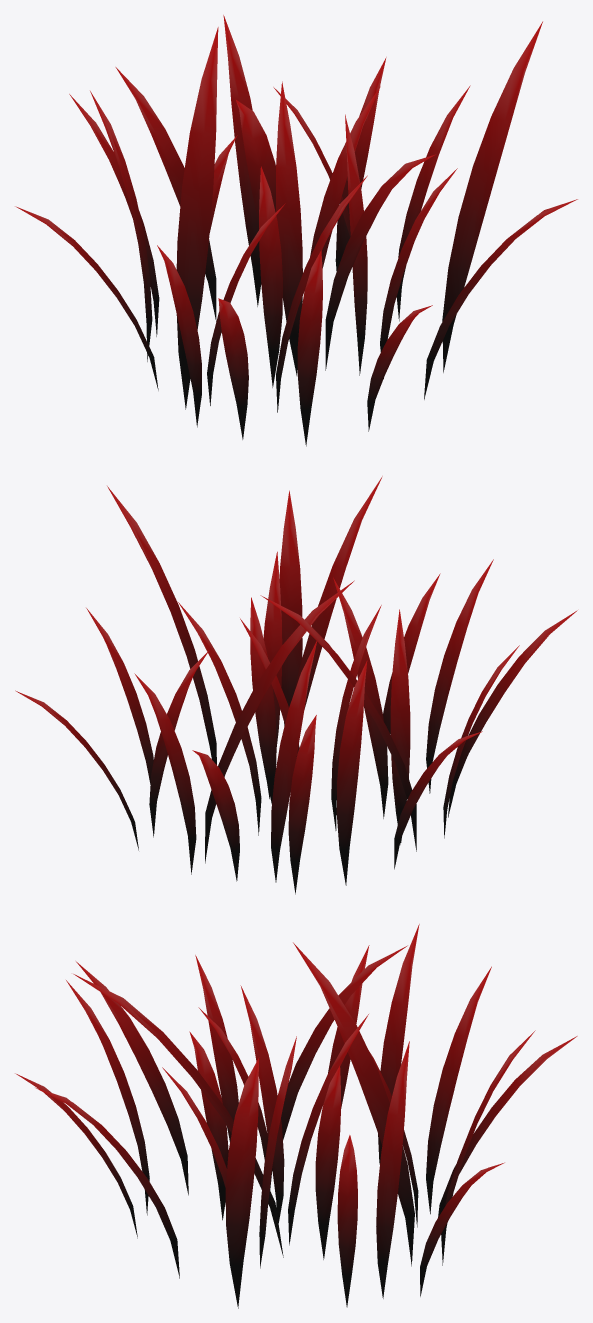
File: Grass.fbx
3 renders of one model, top to bottom at view 1: azimuth 30°, elevation 25°; view 2: azimuth 150°, elevation 25°; view 3: azimuth 270°, elevation 25°, orthographic. The views are drawn at different scales.
Parts seen in each view (by area): view 1: Grass; view 2: Grass; view 3: Grass.
Part boxes in pixels (x1,y1,x2,y2): Grass: (15,15,577,446); Grass: (15,476,577,894); Grass: (15,924,577,1308).
Size of the model in its own units: 119 by 76.44 by 129.
